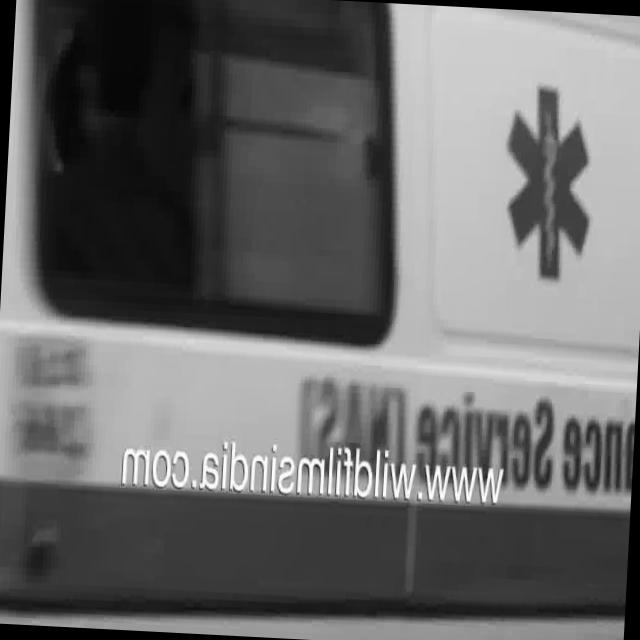ambulance: (1, 33, 640, 458), (0, 498, 629, 640)
